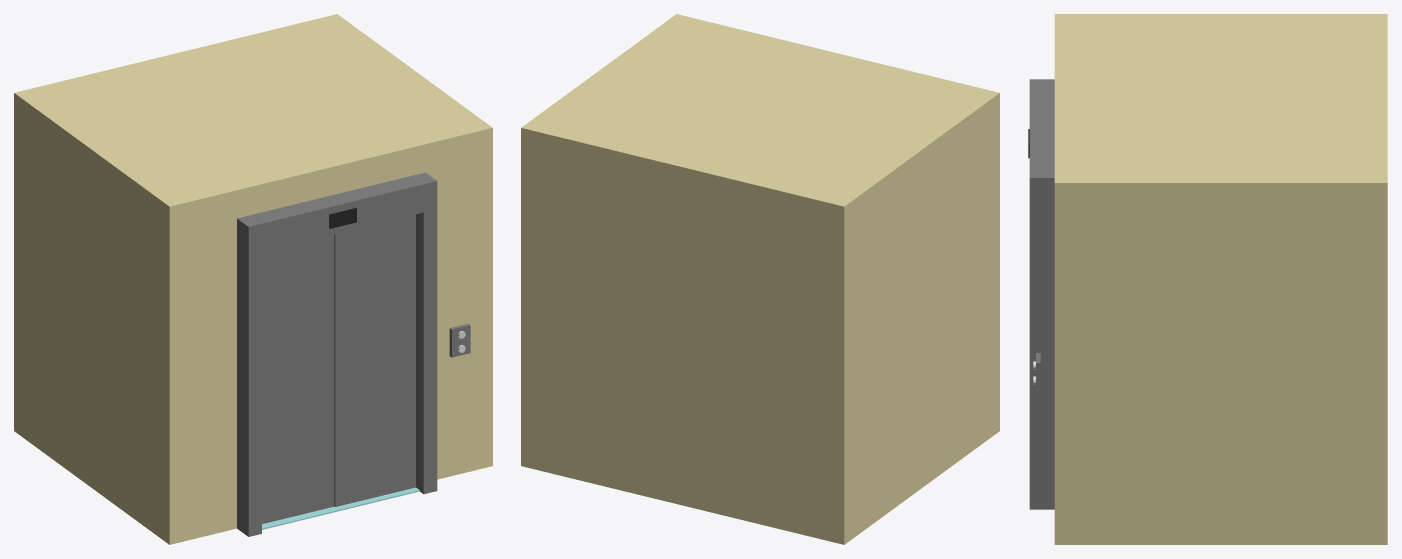
The model's file is elevator.fbx.
The picture shows the model from 3 angles, left to right: view 1: azimuth 30°, elevation 25°; view 2: azimuth 150°, elevation 25°; view 3: azimuth 270°, elevation 25°; orthographic projection. The views are drawn at different scales.
Parts seen in each view (by area): view 1: elevator, elevator_door_1, elevator_doorway, elevator_door_2, updown_buttons; view 2: elevator; view 3: elevator, elevator_doorway.
Part boxes in pixels (<box>): elevator: <box>14,14,492,544</box>; elevator_door_1: <box>334,214,415,506</box>; elevator_doorway: <box>237,172,437,536</box>; elevator_door_2: <box>262,234,334,523</box>; updown_buttons: <box>449,323,470,357</box>; elevator: <box>521,14,999,544</box>; elevator: <box>1054,14,1387,544</box>; elevator_doorway: <box>1029,79,1054,509</box>.
Size of the model in its own units: 240 by 240 by 216.
